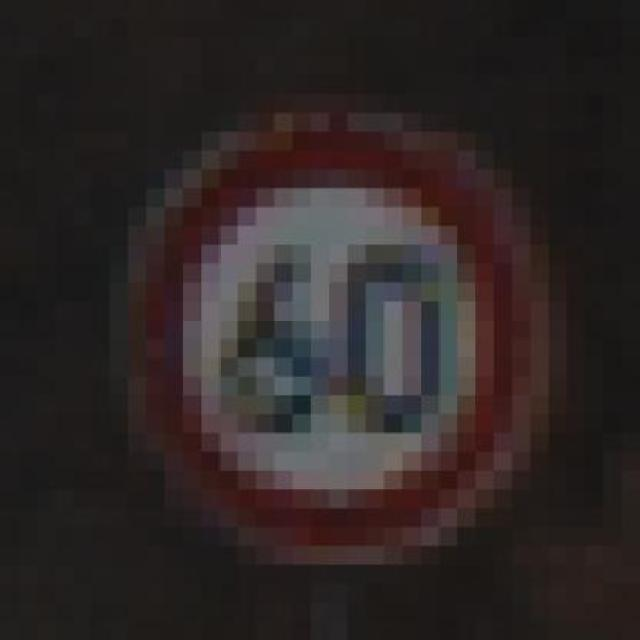forb_speed_over_60: (130, 125, 532, 552)
